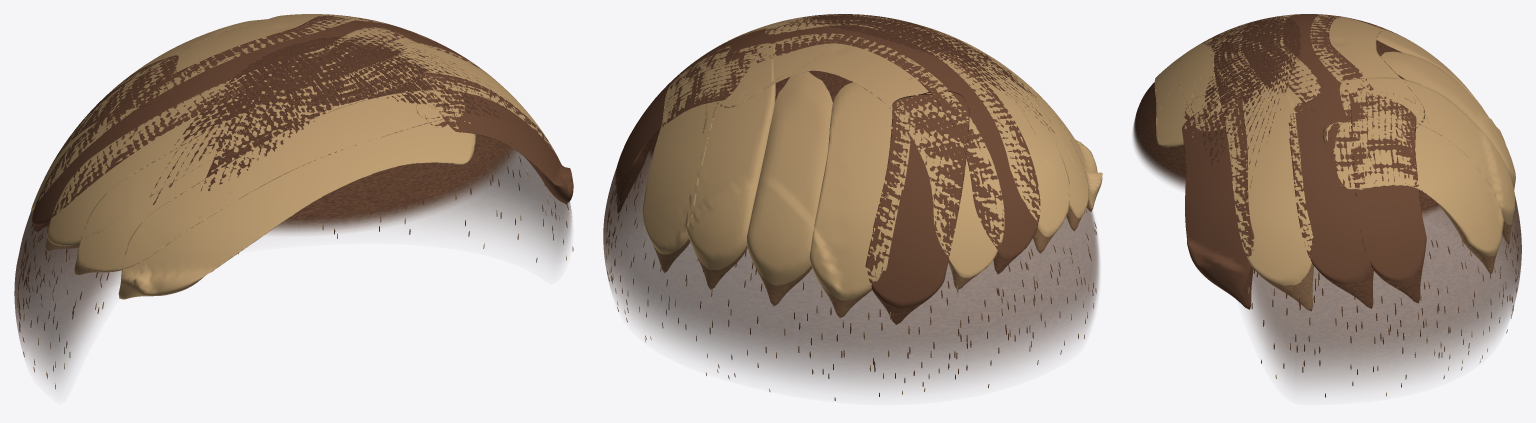
File: Highlights-b3b90acc34c0251-hair.glb
The picture shows the model from 3 angles, left to right: view 1: azimuth 30°, elevation 25°; view 2: azimuth 150°, elevation 25°; view 3: azimuth 270°, elevation 25°; orthographic projection. The views are drawn at different scales.
Parts seen in each view (by area): view 1: 226 hair / Hair / main251.001, 226 hair / Hair / clipped grain251.001, 226 hair / Hair / close cut strokes251.001; view 2: 226 hair / Hair / main251.001, 226 hair / Hair / clipped grain251.001, 226 hair / Hair / close cut strokes251.001; view 3: 226 hair / Hair / main251.001, 226 hair / Hair / clipped grain251.001, 226 hair / Hair / close cut strokes251.001.
Part boxes in pixels (x1,y1,x2,y2): 226 hair / Hair / main251.001: (31, 14, 573, 299); 226 hair / Hair / clipped grain251.001: (14, 31, 571, 384); 226 hair / Hair / close cut strokes251.001: (17, 154, 573, 388); 226 hair / Hair / main251.001: (615, 14, 1102, 324); 226 hair / Hair / clipped grain251.001: (603, 14, 1099, 389); 226 hair / Hair / close cut strokes251.001: (606, 173, 1096, 400); 226 hair / Hair / main251.001: (1154, 14, 1515, 311); 226 hair / Hair / clipped grain251.001: (1133, 16, 1521, 388); 226 hair / Hair / close cut strokes251.001: (1241, 224, 1518, 397).
Size of the model in its own units: 0.9812 by 0.5824 by 0.752.
Materials: 4 (1 with a texture image).
